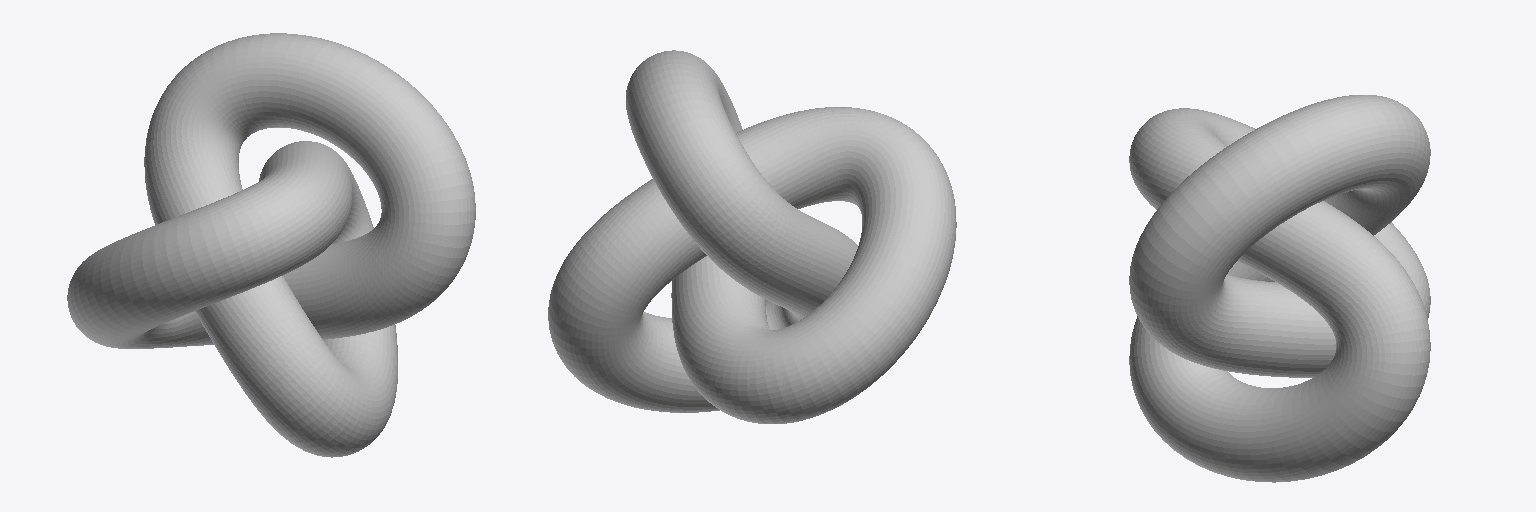
Rendered from TorusKnot.obj.
3 views of the same model, side by side, from view 1: azimuth 30°, elevation 25°; view 2: azimuth 150°, elevation 25°; view 3: azimuth 270°, elevation 25° (orthographic).
Size of the model in its own units: 7.56 by 8 by 5.98.